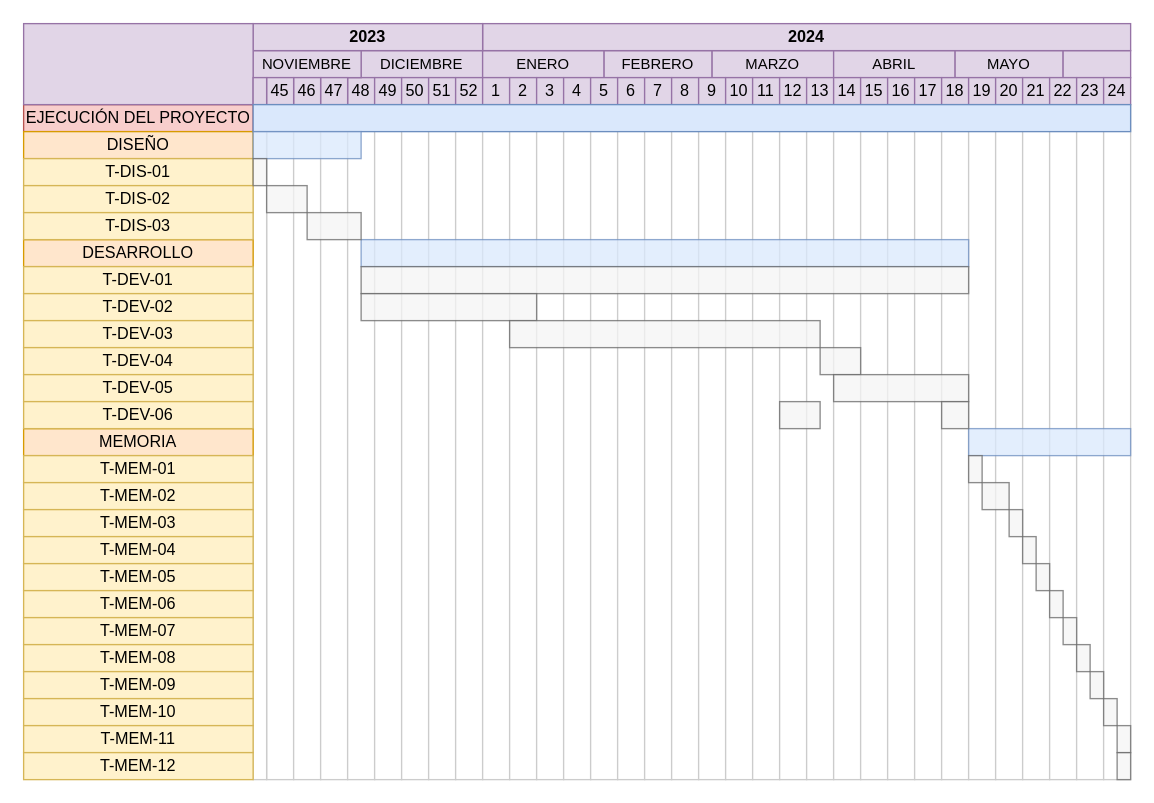
This 1154x803 diagram has some shape labels left out. The centre of each missing label's shape, as x and y in pixels:
"IDENTIFICADOR TAREA" belongs at point (137, 63).
"JUNIO" belongs at point (1096, 63).
